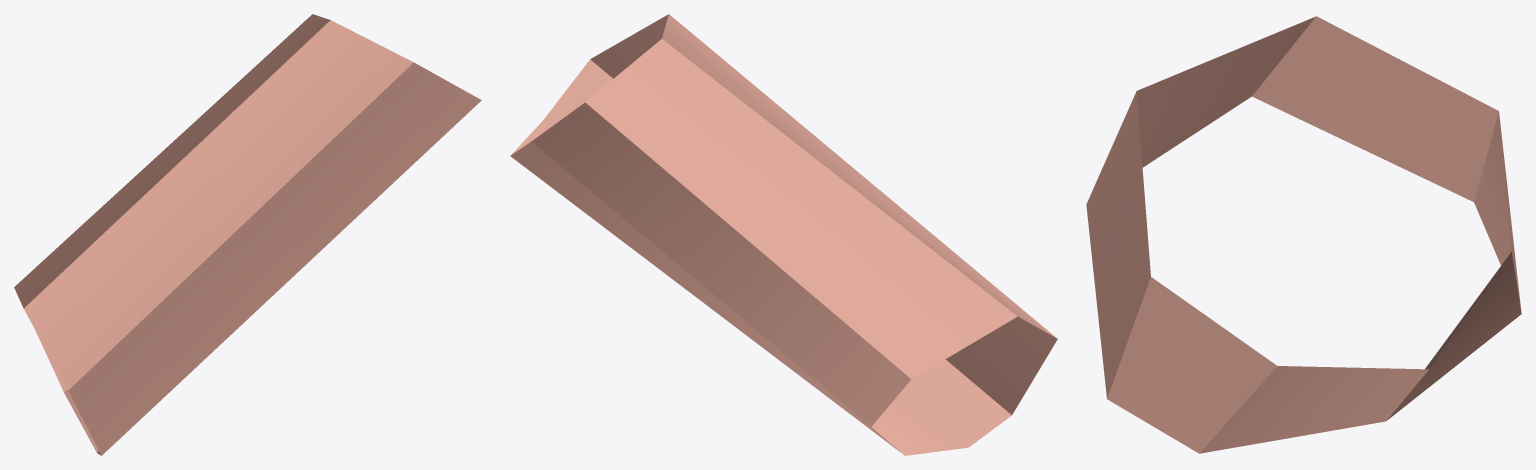
File: cutrmumrarm.fbx
3 views of the same model, side by side, from view 1: azimuth 30°, elevation 25°; view 2: azimuth 150°, elevation 25°; view 3: azimuth 270°, elevation 25° (orthographic). The views are drawn at different scales.
Parts seen in each view (by area): view 1: mum.026; view 2: mum.026; view 3: mum.026.
Part boxes in pixels (box(x1,y1,x2,y2)): mum.026: box(14, 14, 481, 455); mum.026: box(510, 14, 1057, 455); mum.026: box(1086, 16, 1521, 453).
Bounding box in the file's own units: 23.2 × 17.26 × 9.8.
